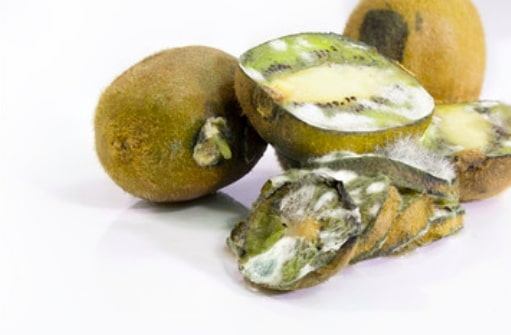damaged_kiwi: (252, 141, 465, 277), (95, 46, 256, 197), (239, 31, 434, 147), (353, 1, 486, 87), (434, 88, 511, 211)
